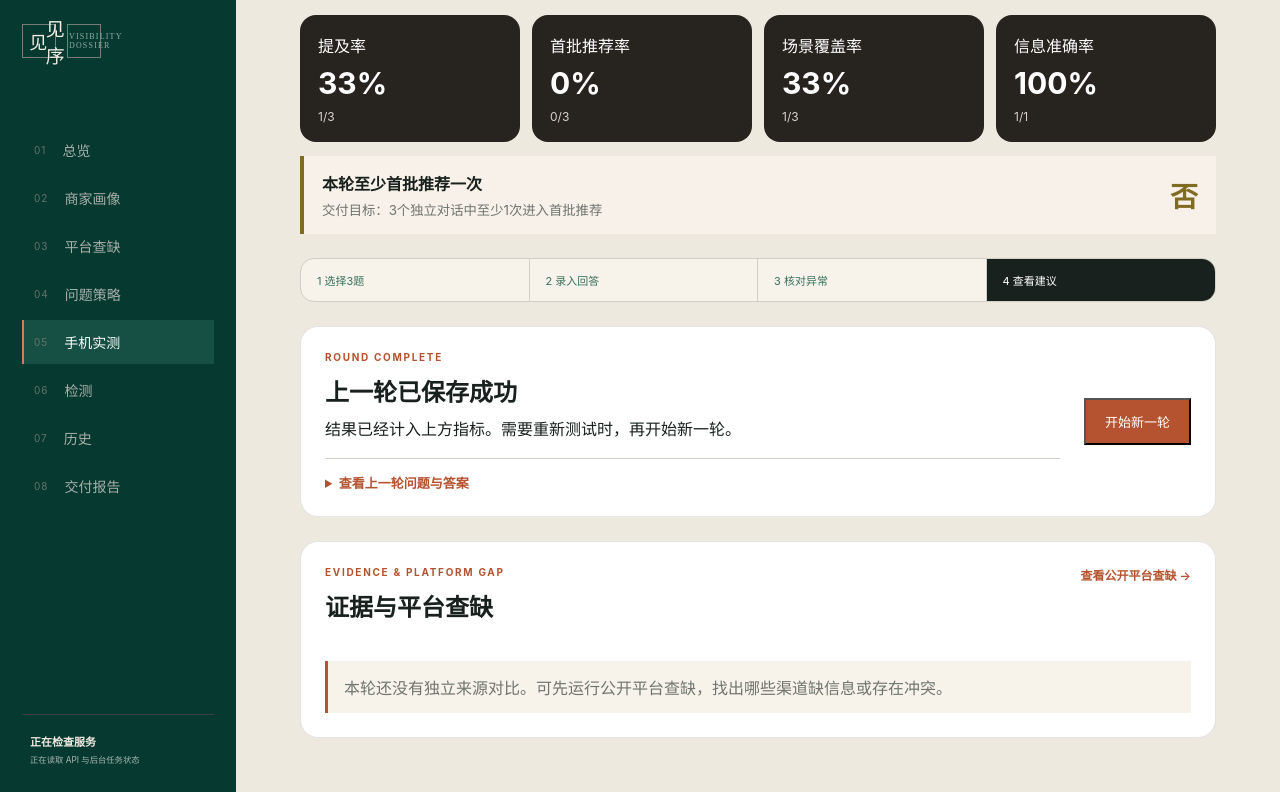
Test case: mobile Doubao workspace › shows a completed state before starting another round
This screenshot has width=1280, height=792.
(page scrolled)
Expected: the heading "上一轮已保存成功" is shown, [325,378,517,407]
Expected: the text "1/3" is shown 2 times, [318,109,335,124]; [782,109,799,124]
Click the heading "查看上一轮问题与答案": (397, 482) [325,473,469,492]
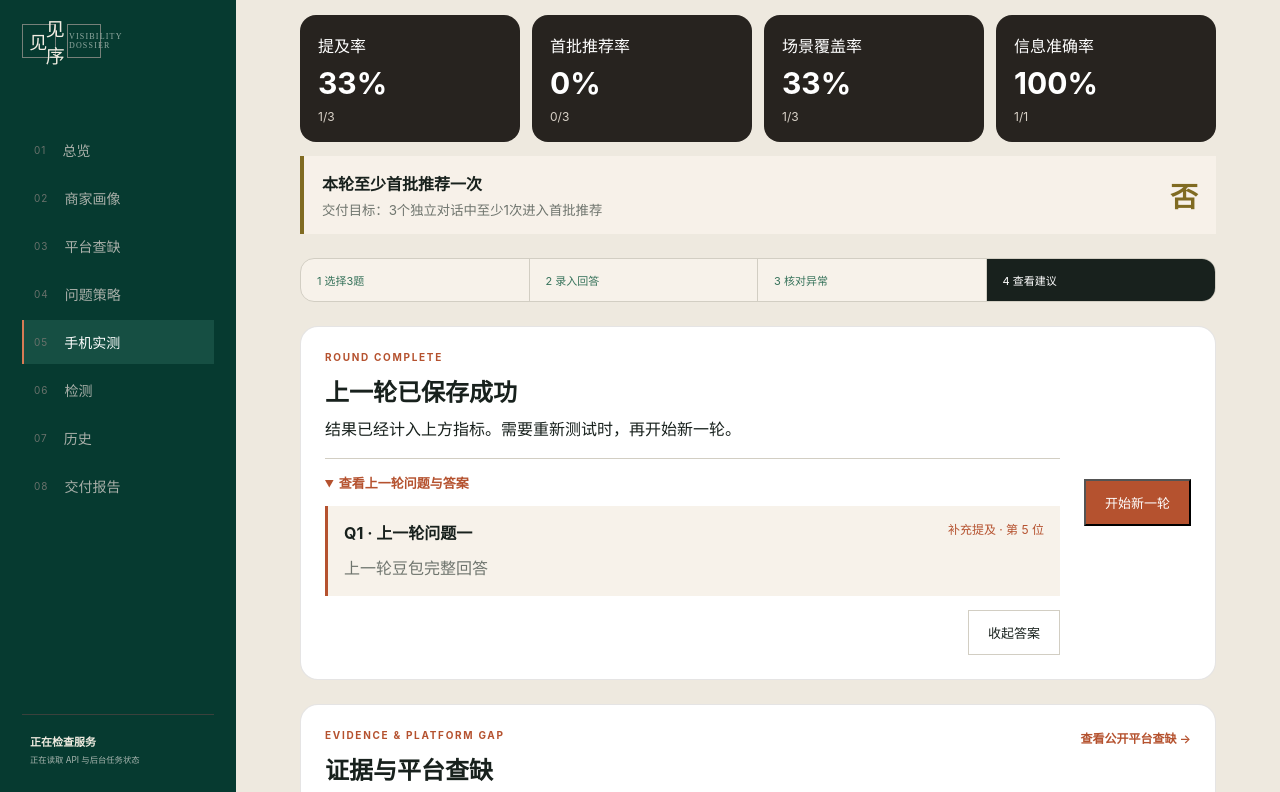
Expected: the text "Q1 · 上一轮问题一" is shown, [344,520,472,544]
Expected: the text "上一轮豆包完整回答" is shown, [344,558,488,578]
Expected: the text "补充提及 · 第 5 位" is shown, [948,520,1044,537]
Click the button "收起答案": (1014, 632) [968,610,1060,655]
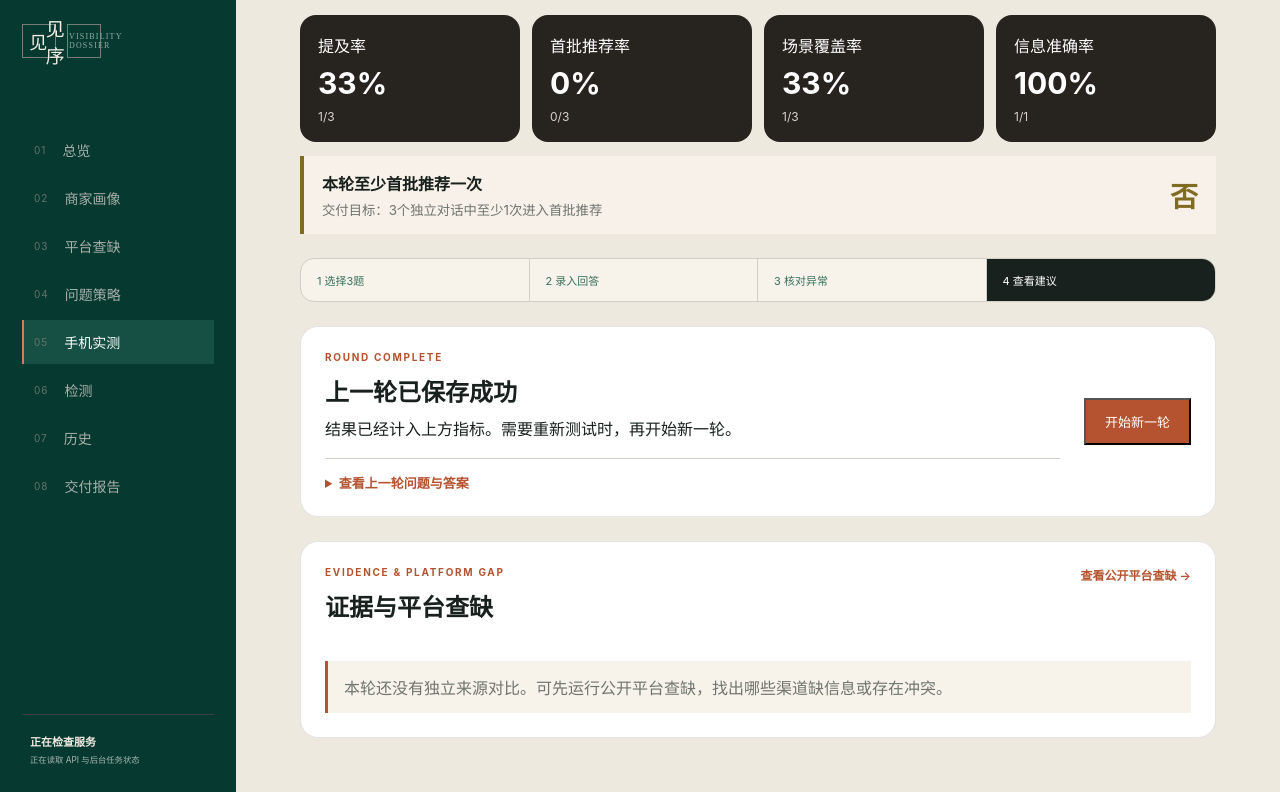
Expected: the text "上一轮豆包完整回答" is gone
Click the button "开始新一轮": (1138, 421) [1084,398,1191,445]
(page scrolled)
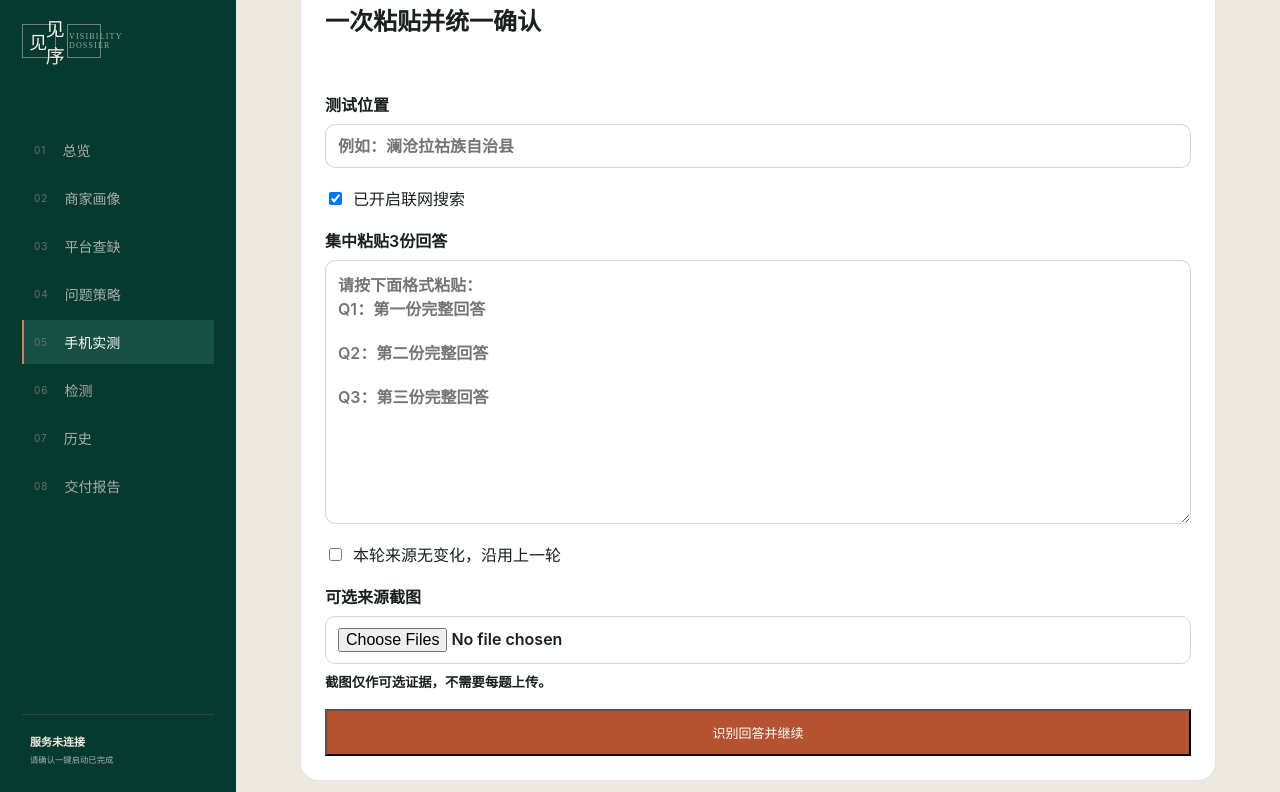
Expected: the text box labelled "集中粘贴3份回答" is shown, [325,260,1191,524]
